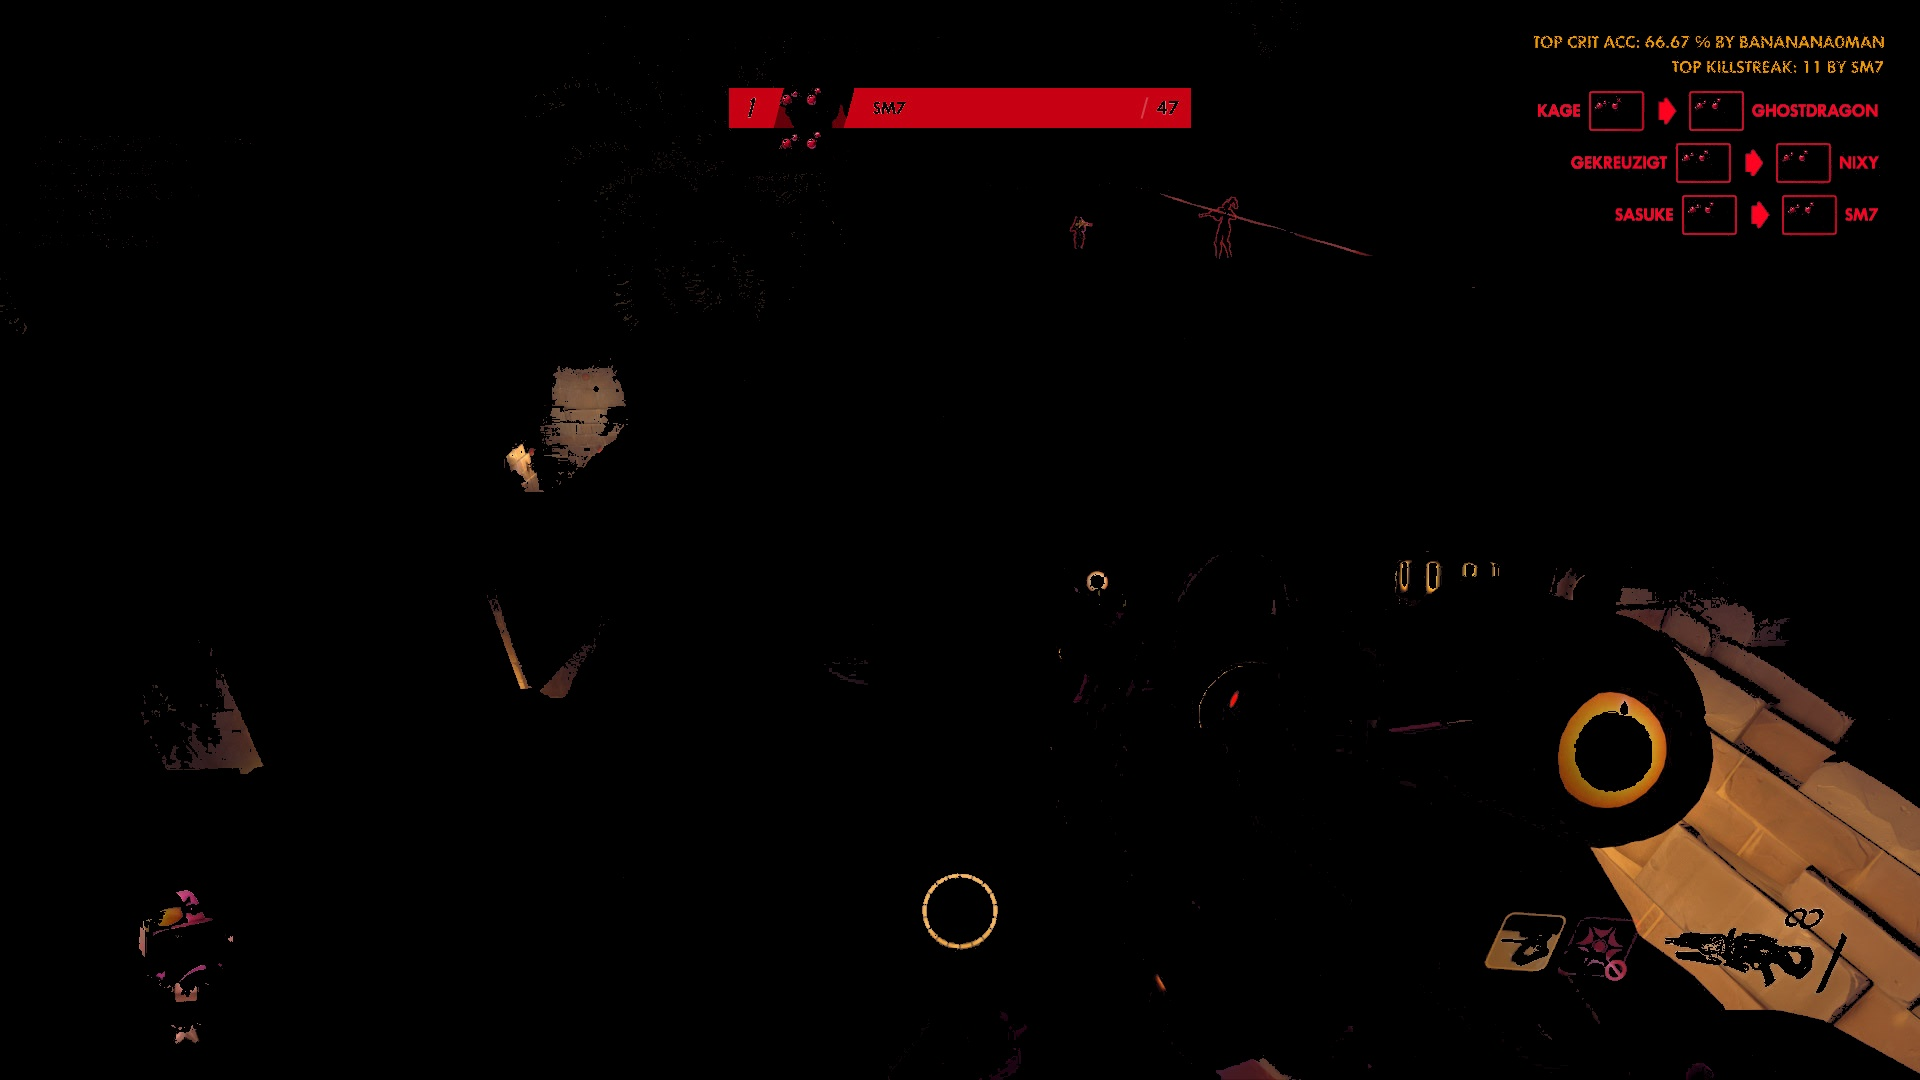widowmaker: (1207, 194, 1247, 265), (1064, 211, 1095, 258)
